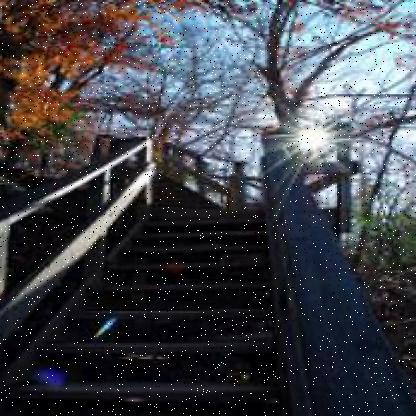stair_up: (24, 202, 284, 403)
